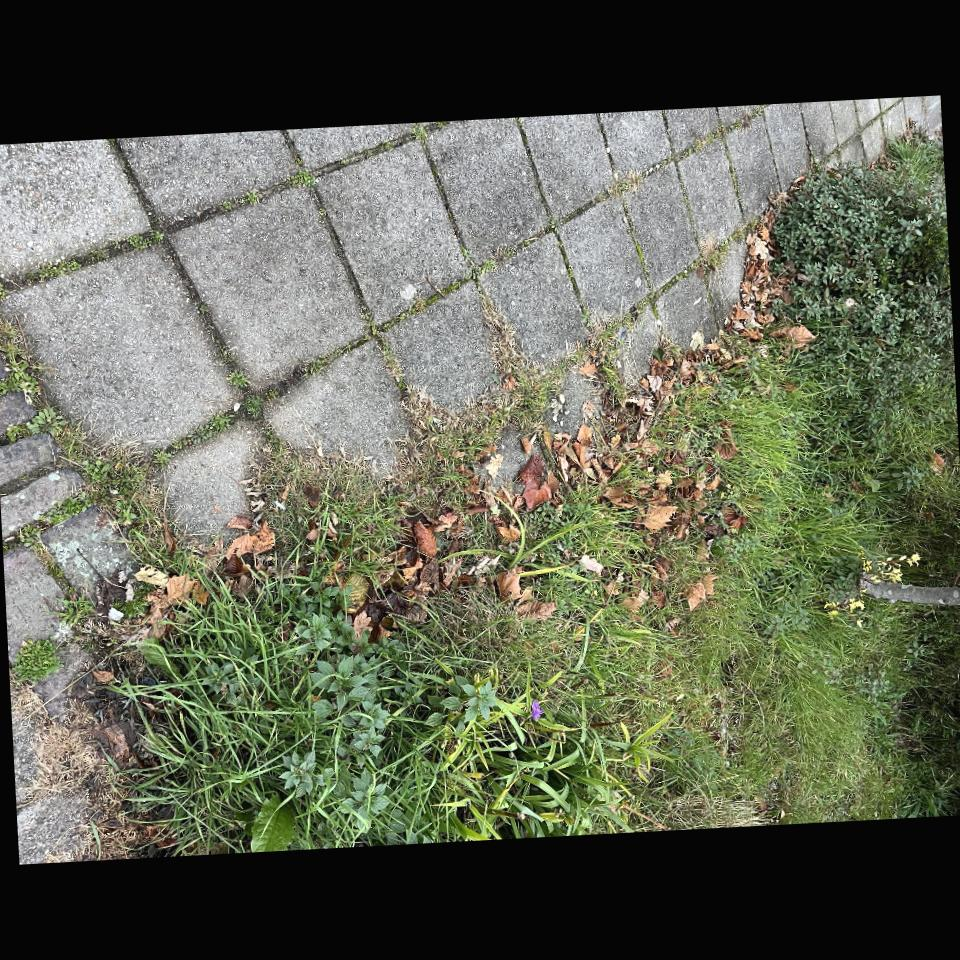weed: (0, 317, 162, 531), (558, 105, 765, 223), (404, 383, 532, 505), (259, 433, 398, 544), (10, 675, 98, 801), (467, 265, 533, 411), (590, 259, 700, 338), (690, 218, 759, 270), (171, 414, 234, 450), (13, 640, 62, 682)
